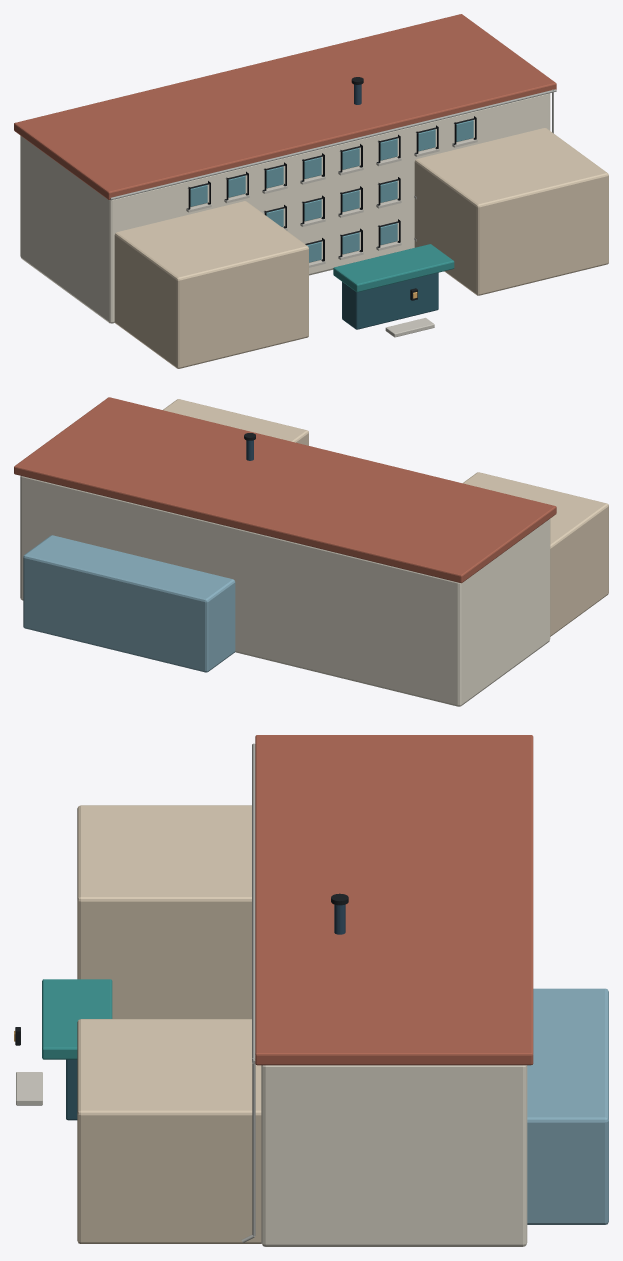
Rendered from EDU_SCHOOL_4x3_002.glb.
The picture shows the model from 3 angles, top to bottom: view 1: azimuth 30°, elevation 25°; view 2: azimuth 150°, elevation 25°; view 3: azimuth 270°, elevation 25°; orthographic projection. The views are drawn at different scales.
Parts seen in each view (by area): view 1: EDU_SCHOOL_4x3_002_Visual; view 2: EDU_SCHOOL_4x3_002_Visual; view 3: EDU_SCHOOL_4x3_002_Visual.
Part boxes in pixels (left/top/right/bottom): EDU_SCHOOL_4x3_002_Visual: left=14, top=14, right=608, bottom=368; EDU_SCHOOL_4x3_002_Visual: left=14, top=397, right=608, bottom=706; EDU_SCHOOL_4x3_002_Visual: left=14, top=735, right=608, bottom=1246.
Size of what is drawn, in the model's own units: 7.32 by 2.48 by 5.76.
